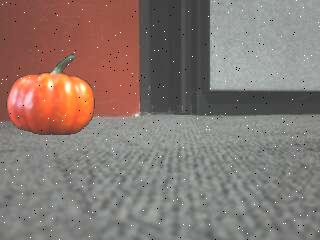Pumpkin: (6, 54, 96, 136)
